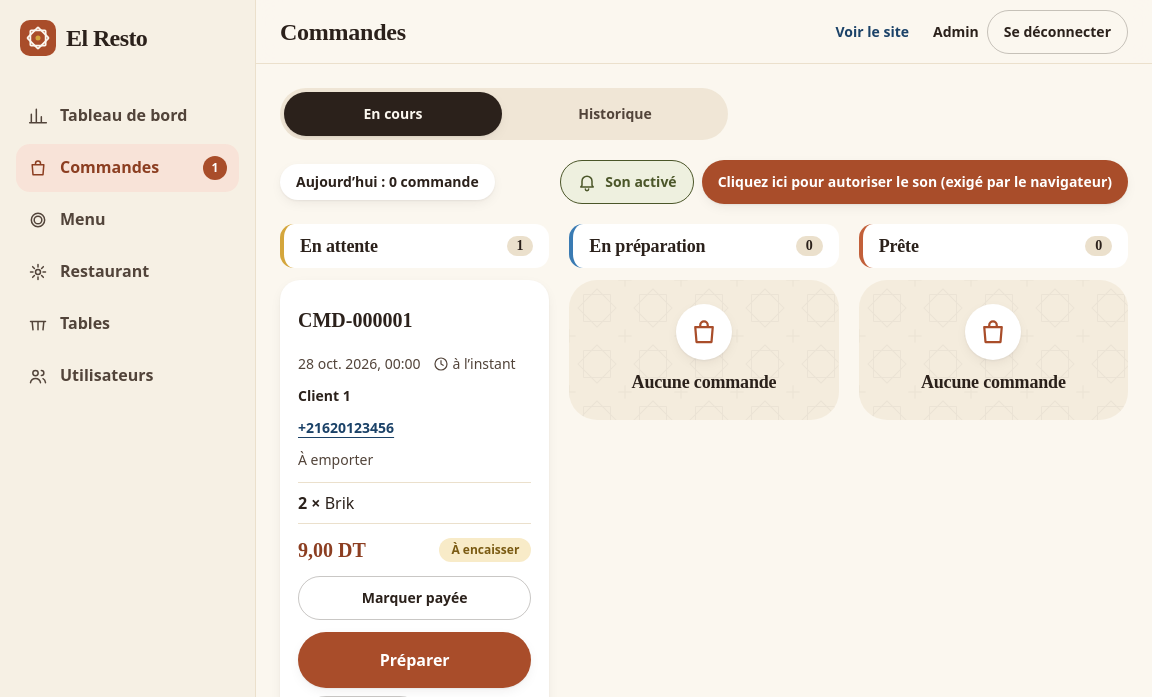
Test: écran des commandes › 409 : message clair, aucune carte perdue, écran rechargé
Click the button "Préparer". click: coordinates (415, 660)
box: [298,632,531,688]
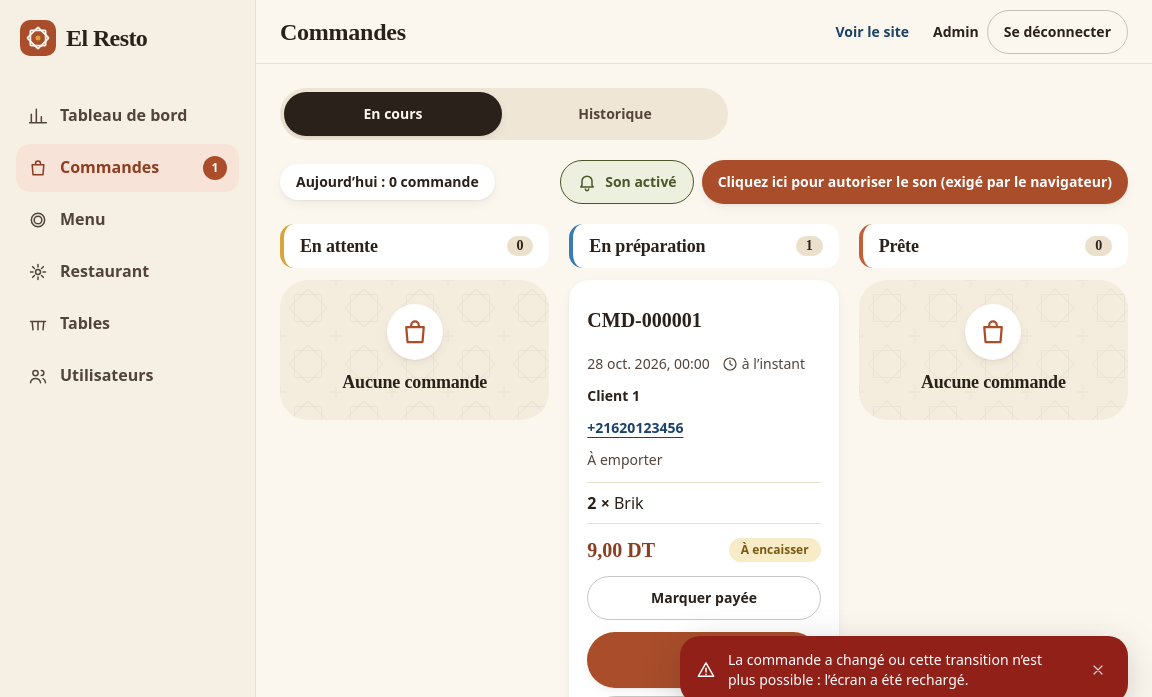
Expected: the text "a changé ou cette transition n’est plus possible" is shown, [728,650,1042,689]
Expected: the button "Prête" is shown, [587,632,821,688]
